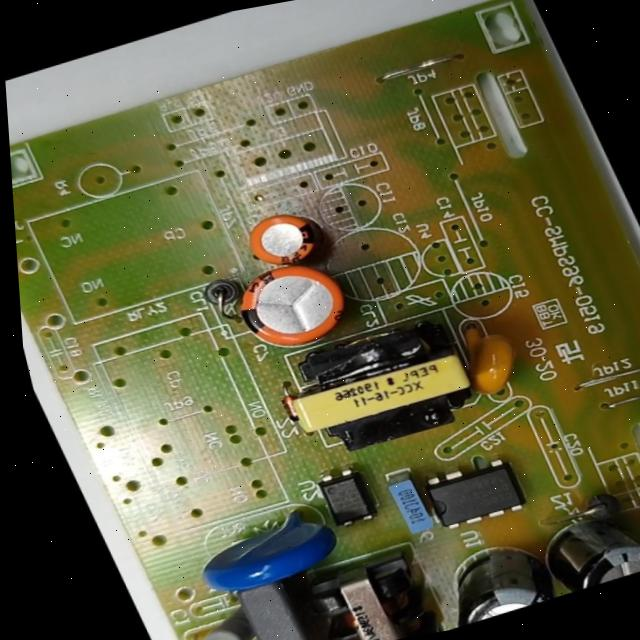Cap1: (213, 244, 372, 366)
Cap2: (231, 200, 335, 278)
Cap3: (416, 530, 569, 632)
Cap4: (521, 492, 640, 598)
MOSFET: (412, 451, 538, 539)
Mov: (174, 494, 355, 606)
Resistor: (176, 595, 272, 640)
Transformer: (258, 300, 503, 472), (279, 537, 451, 640)
